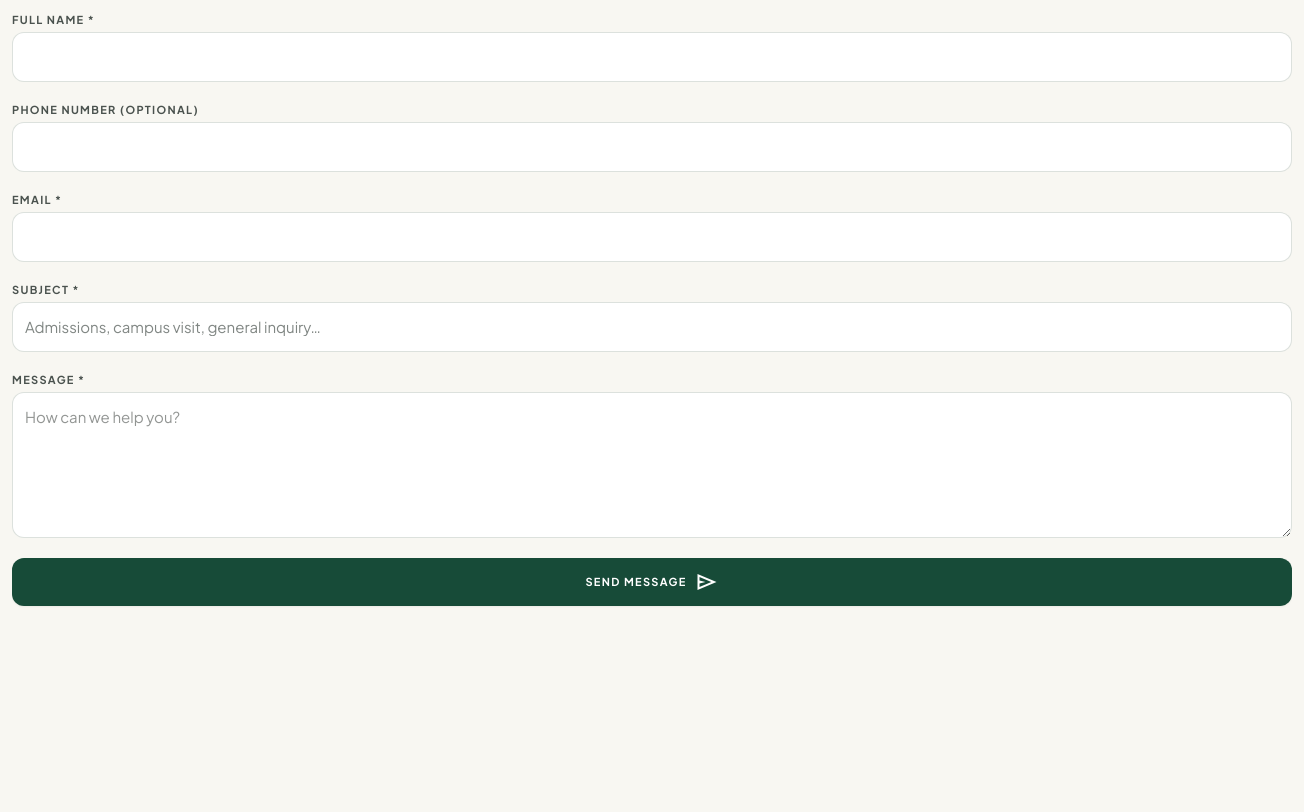
Test: ContactMessageForm › shows backend validation errors on fields
Type "Test User" into the field labelled "Full Name *".
click(652, 57); type("Test User")  # box [12,32,1292,82]
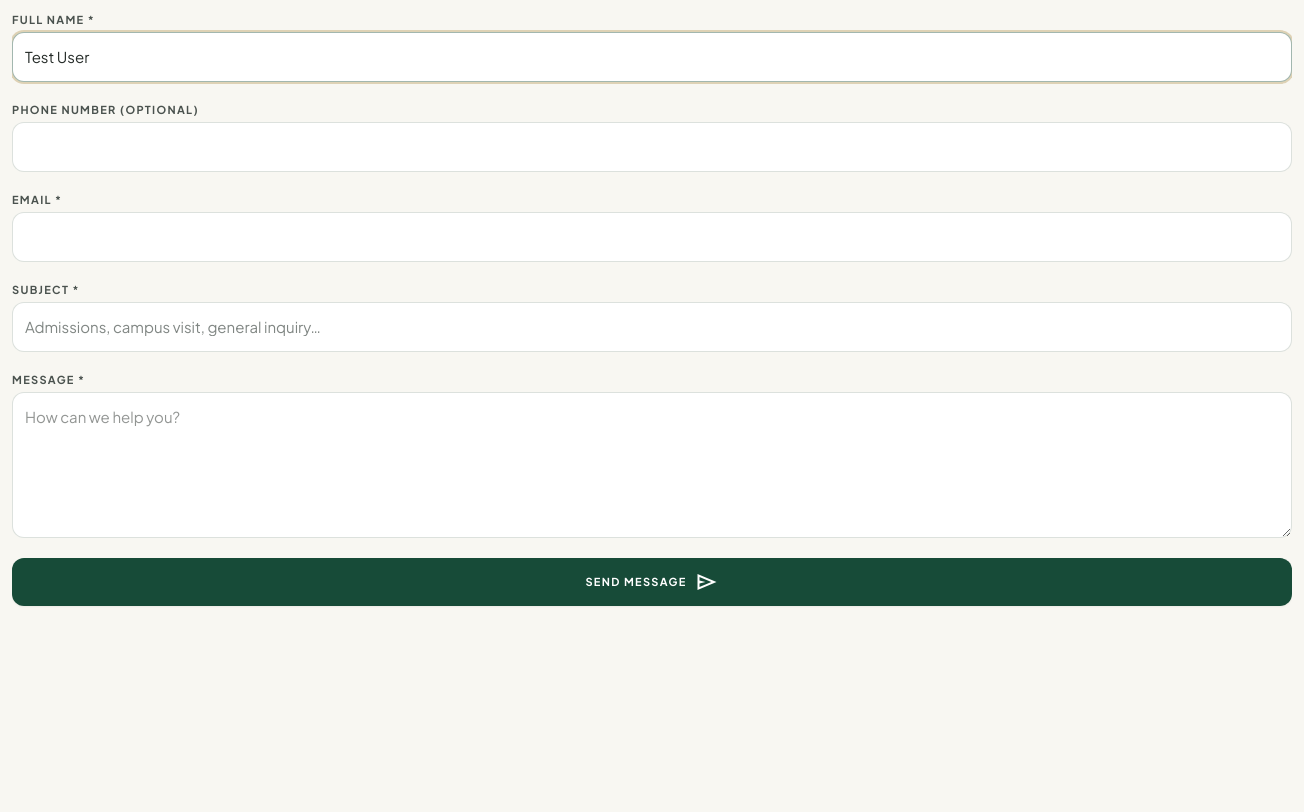
Type "test@example.com" into the field labelled "Email *".
click(652, 237); type("test@example.com")  # box [12,212,1292,262]
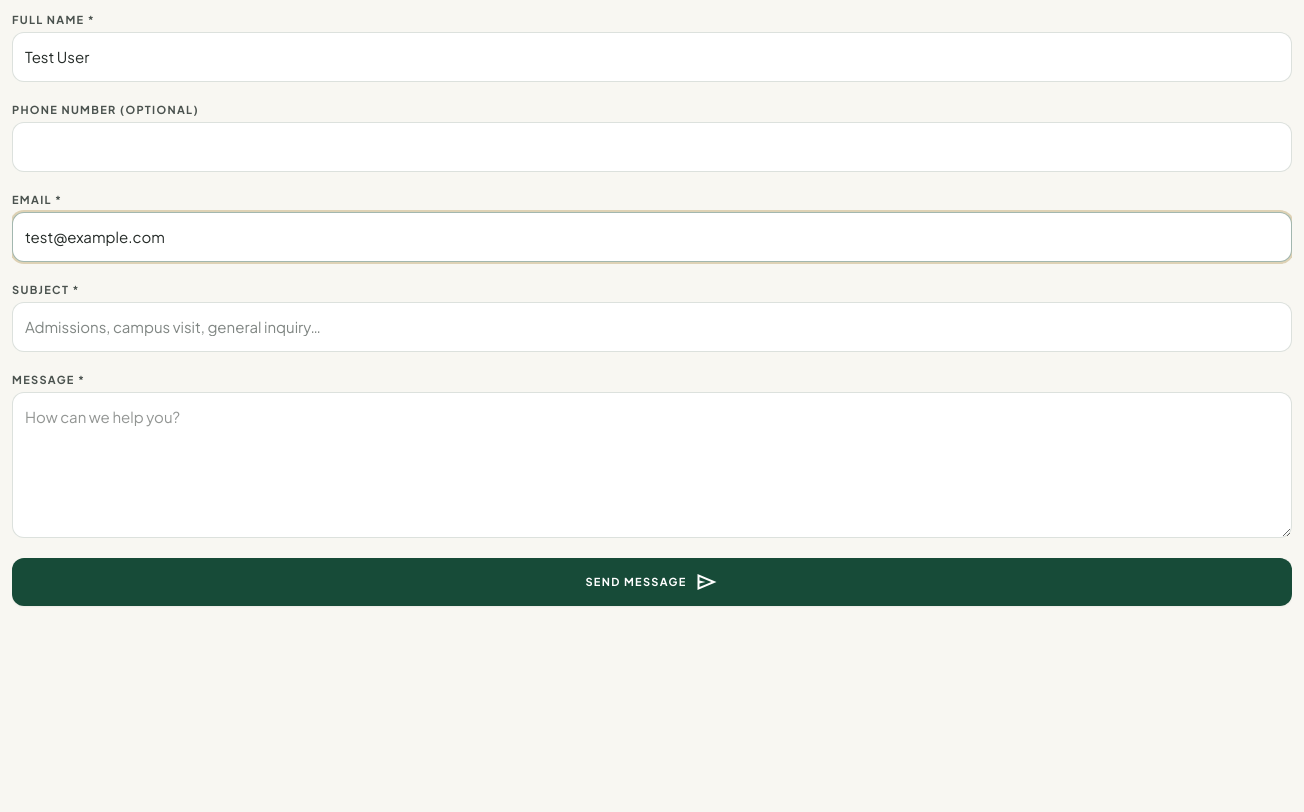
Type "Hello" into the field labelled "Subject *".
click(652, 327); type("Hello")  # box [12,302,1292,352]
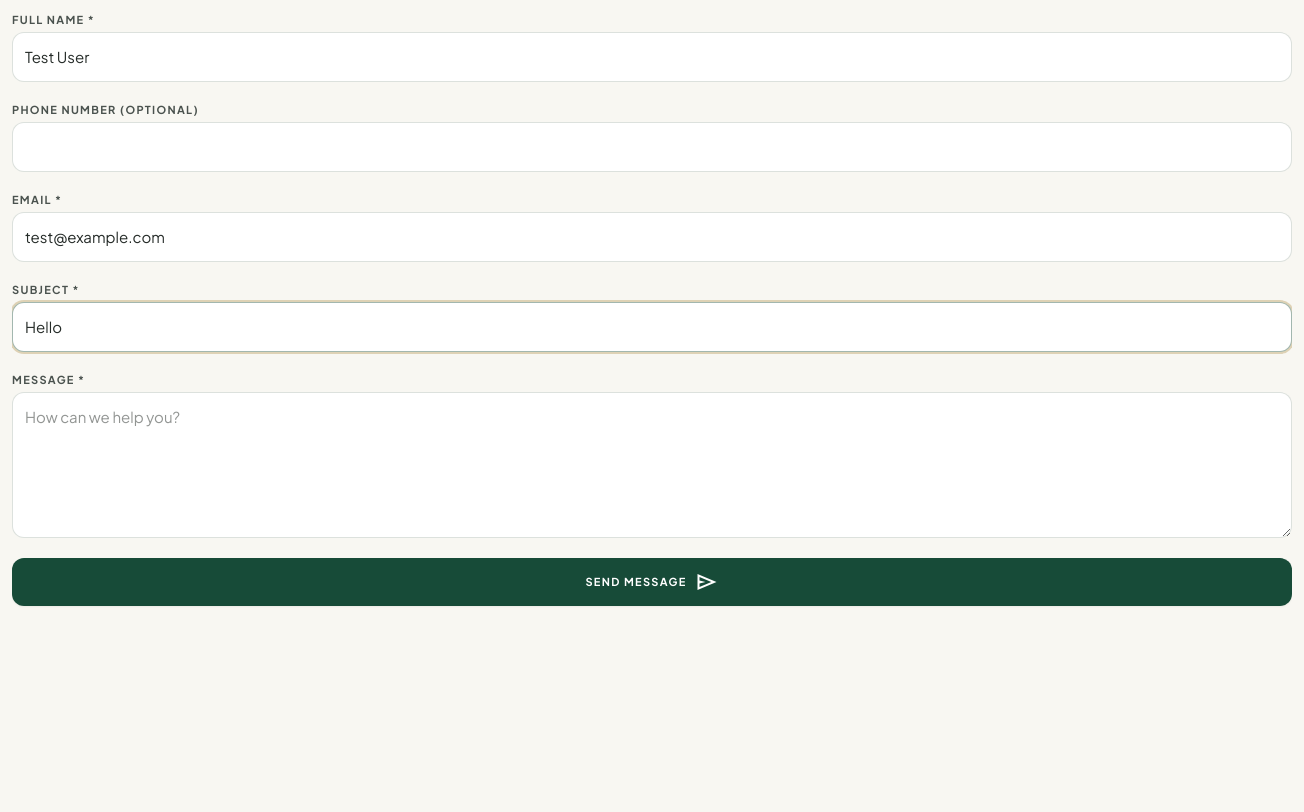
Type "Body text for contact." into the text box labelled "Message *".
click(652, 465); type("Body text for contact.")  # box [12,392,1292,538]
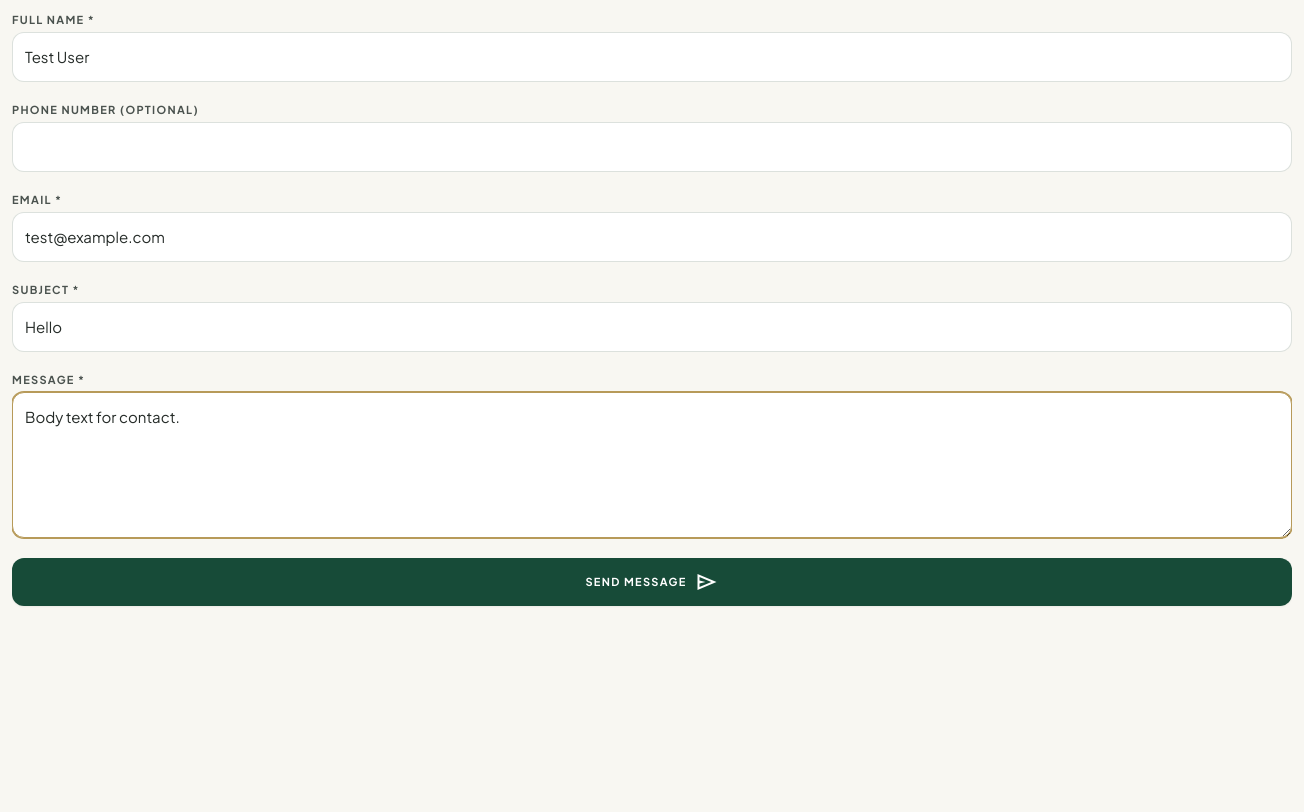
Click the button "Send Message".
click(652, 582)  # box [12,558,1292,606]
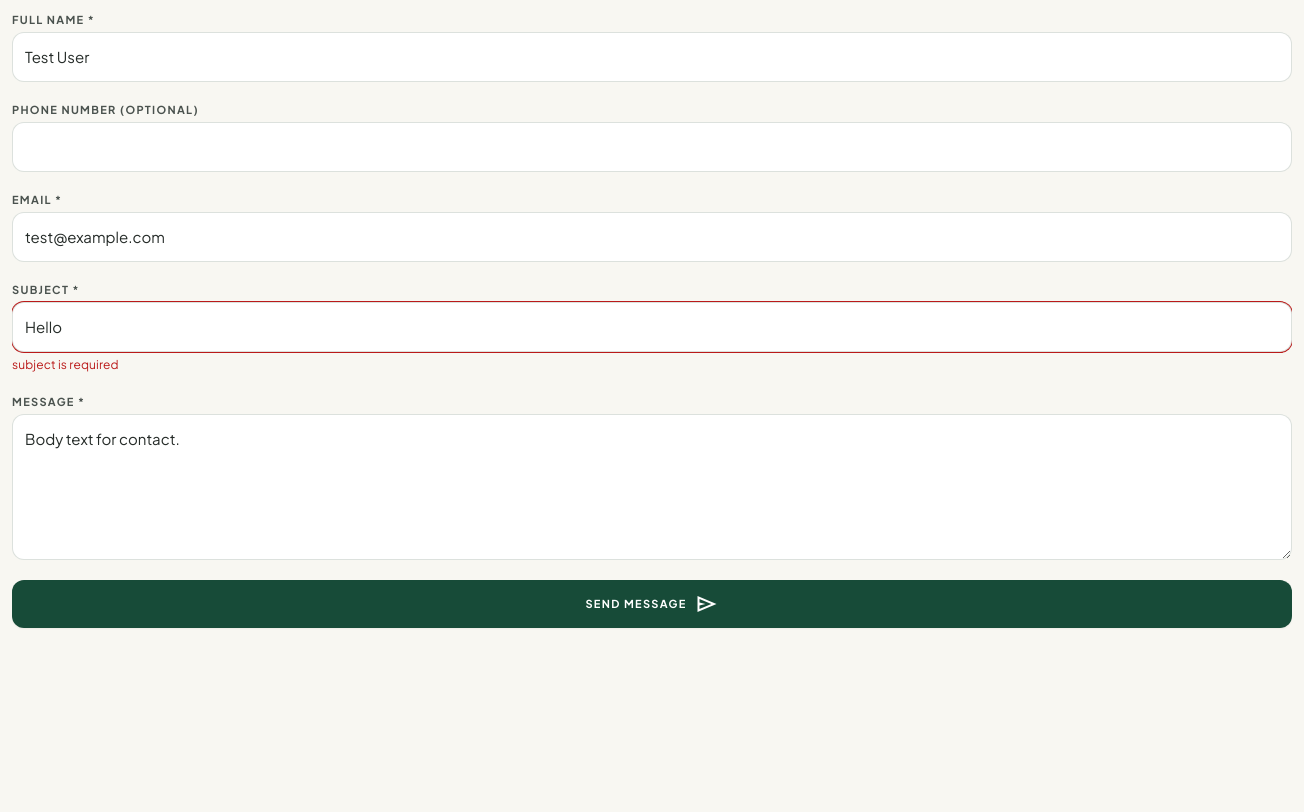
Expected: the text "subject is required" is shown, [12,357,119,372]
